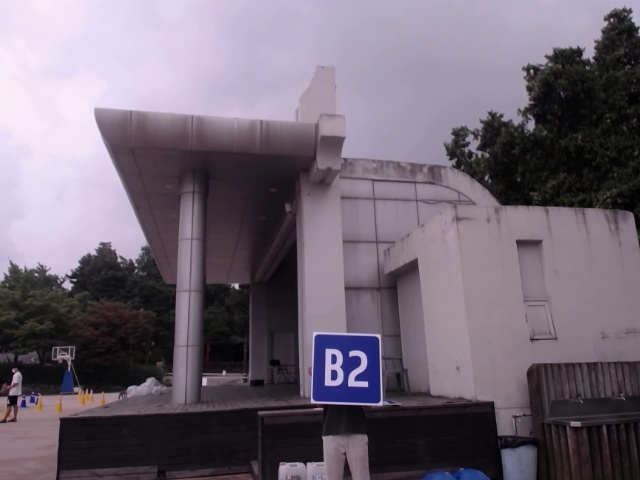delivery_b2: (310, 332, 383, 405)
